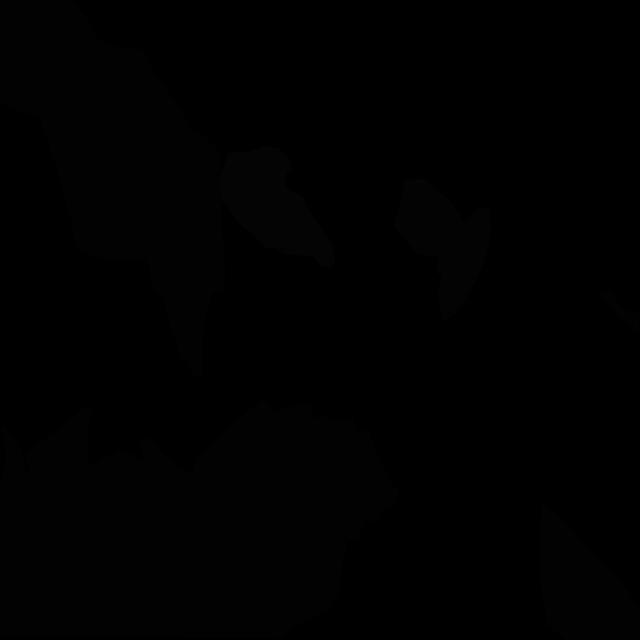cardboard: (0, 397, 400, 639), (540, 500, 640, 640), (600, 289, 639, 335)
metal: (394, 179, 491, 322)
soft_plastic: (218, 146, 335, 268)
